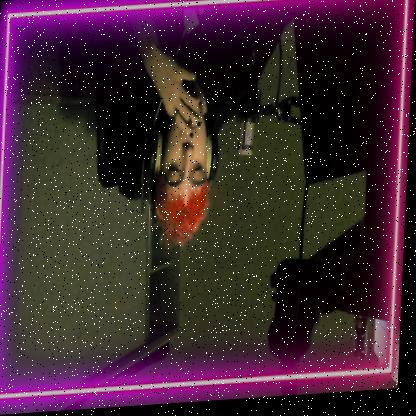streamer: (93, 0, 300, 257)
